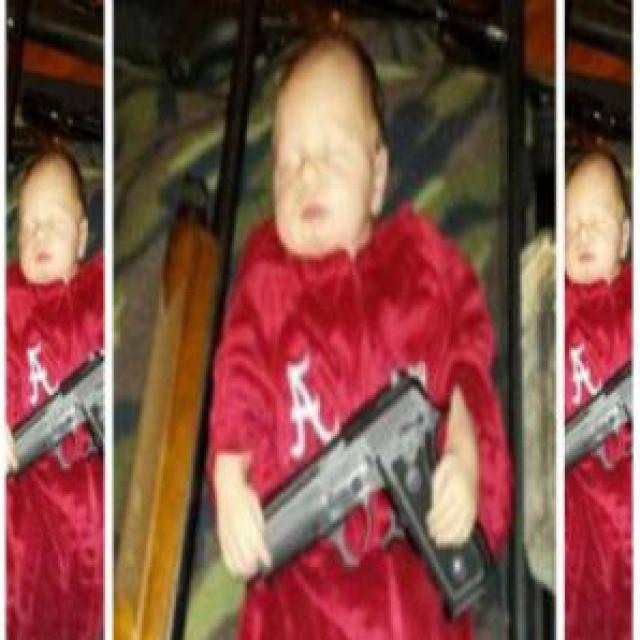pistol: (242, 370, 506, 614)
